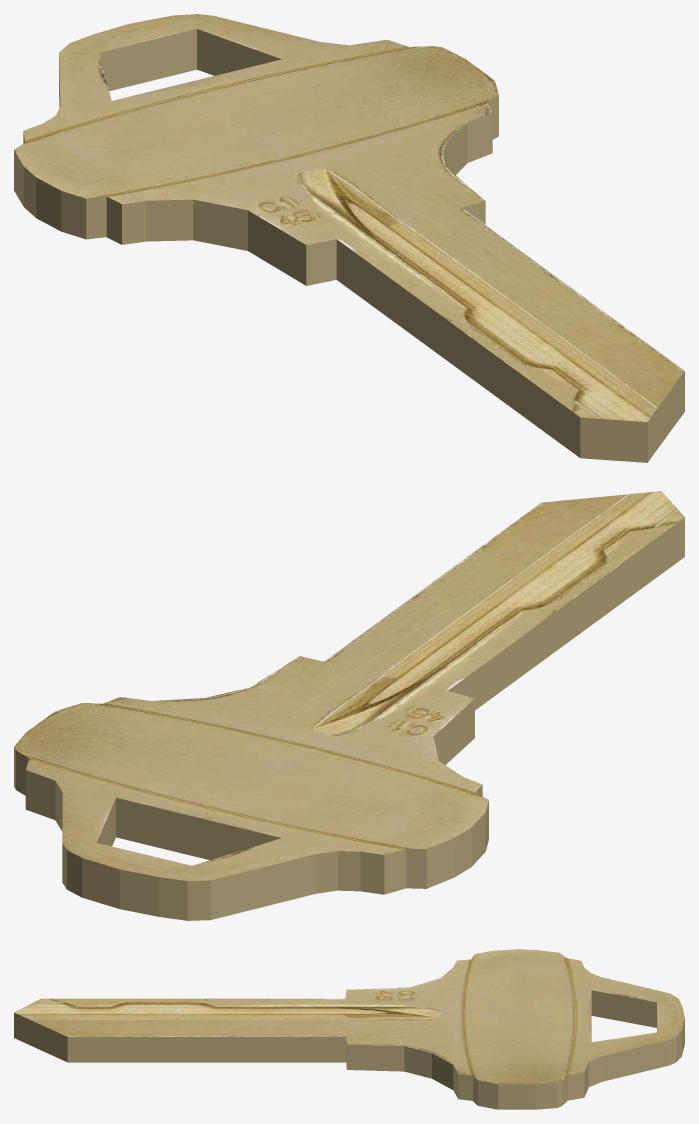
Rendered from key.fbx.
3 views of the same model, one above another, from view 1: azimuth 30°, elevation 25°; view 2: azimuth 150°, elevation 25°; view 3: azimuth 270°, elevation 25° (orthographic). The views are drawn at different scales.
Parts seen in each view (by area): view 1: key; view 2: key; view 3: key.
Part boxes in pixels (x1=…): key: x1=14, y1=14, x2=684, y2=462; key: x1=14, y1=491, x2=684, y2=920; key: x1=14, y1=949, x2=684, y2=1109.
Bounding box in the file's own units: 47.49 × 4.18 × 99.77.
